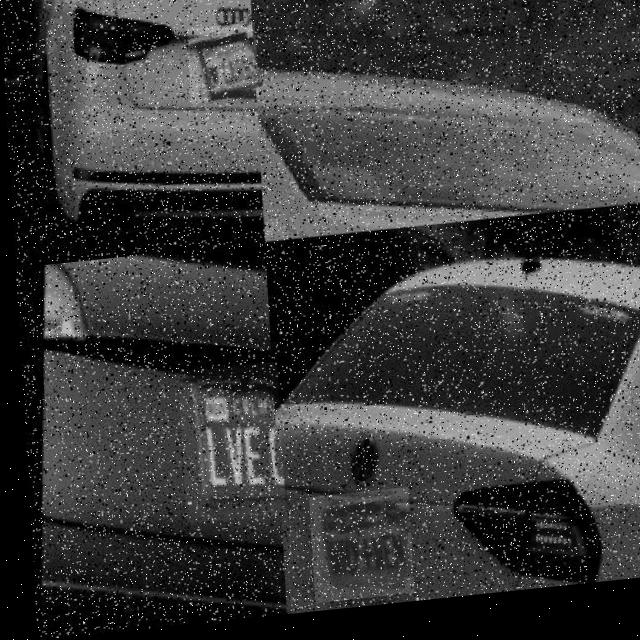LicensePlate: (173, 367, 279, 528), (302, 495, 406, 609), (187, 27, 258, 108)
